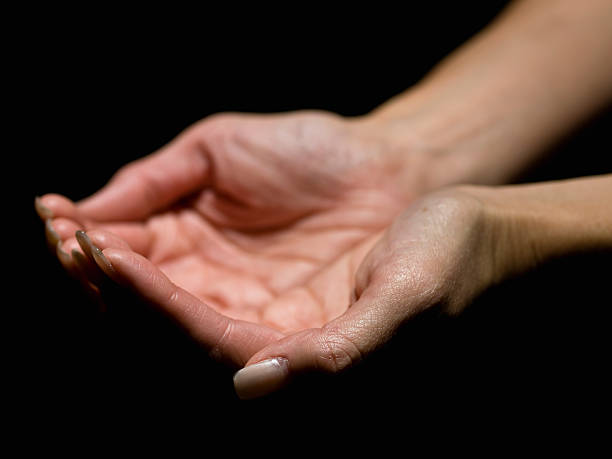hand: (27, 65, 511, 407)
